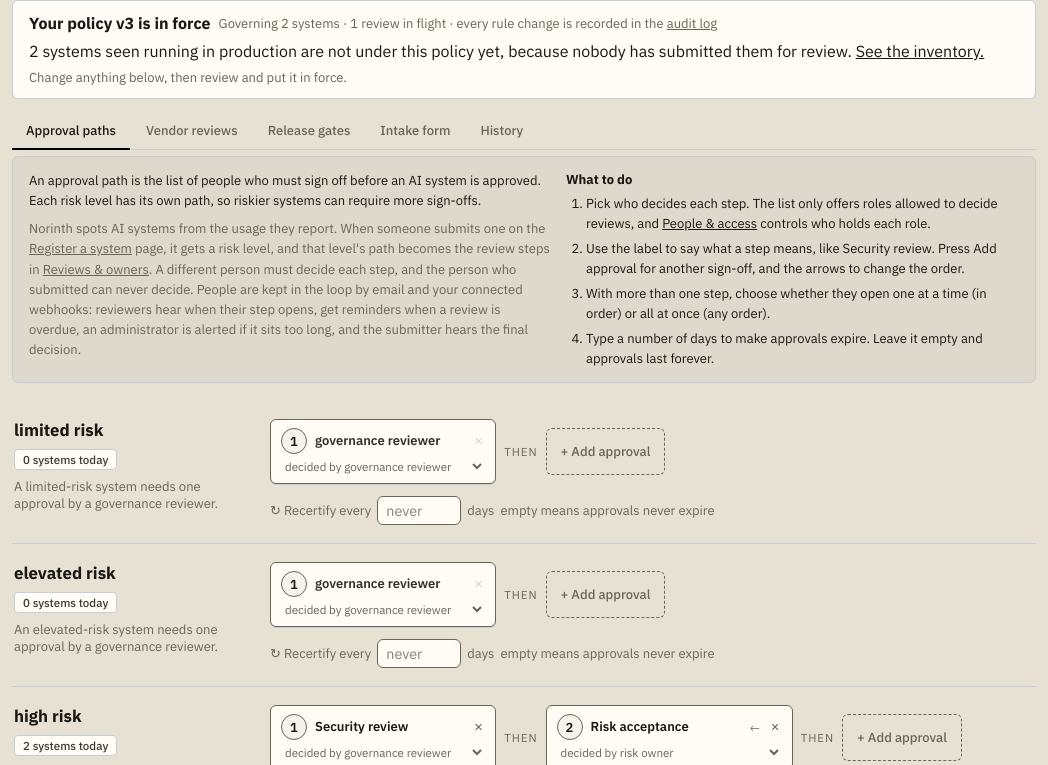
Test: PolicyView › splits the builder into one concern per view, each with plain guidance
Check: the element with test id "tab-guide" shows "An approval path is the list of people who must sign off before an AI system is approved", box [29,172,541,209]
Check: the button "Add question" is not shown
What coordinates should you click on to do the following:
click the link "Intake form"
I would click on:
 (415, 130)
Its box is [380,122,450,139].
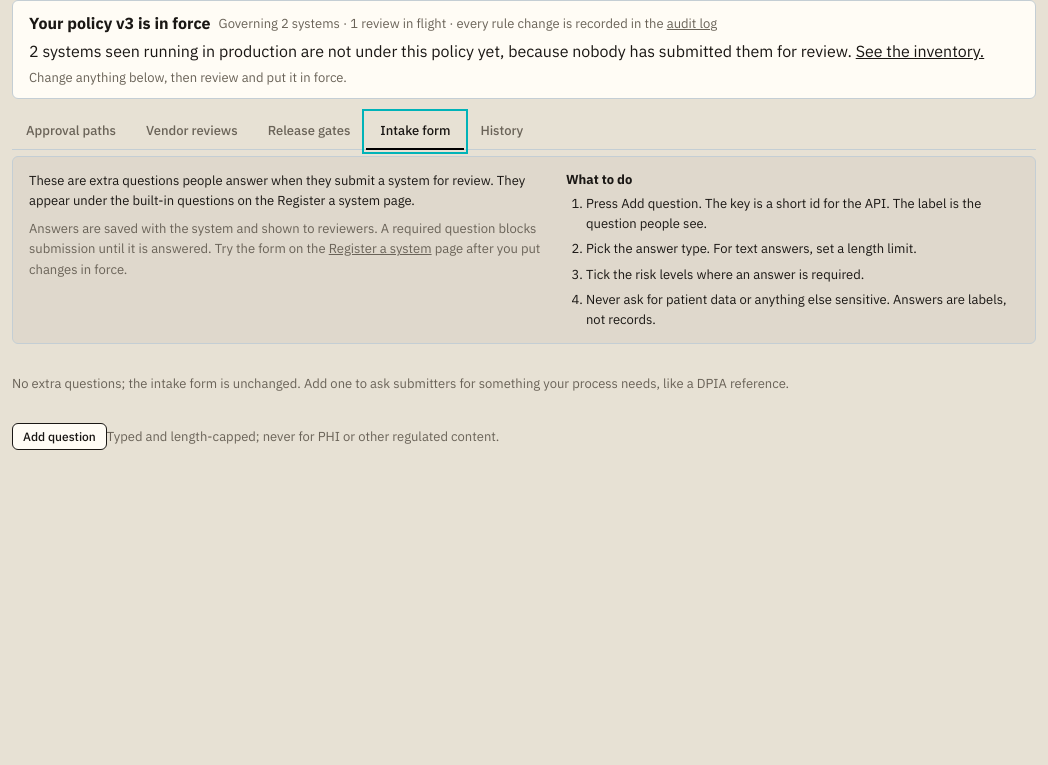
Check: the button "Add question" is shown, box [12,423,107,450]
Check: the element with test id "tab-guide" shows "extra questions people answer when they submit a system", box [29,172,525,209]
Check: the element with test id "tab-guide" shows "Never ask for patient data", box [586,291,1006,328]
What coordinates should you click on to do the following:
click the link "Release gates"
I would click on:
 (309, 130)
Its box is [268,122,350,139].
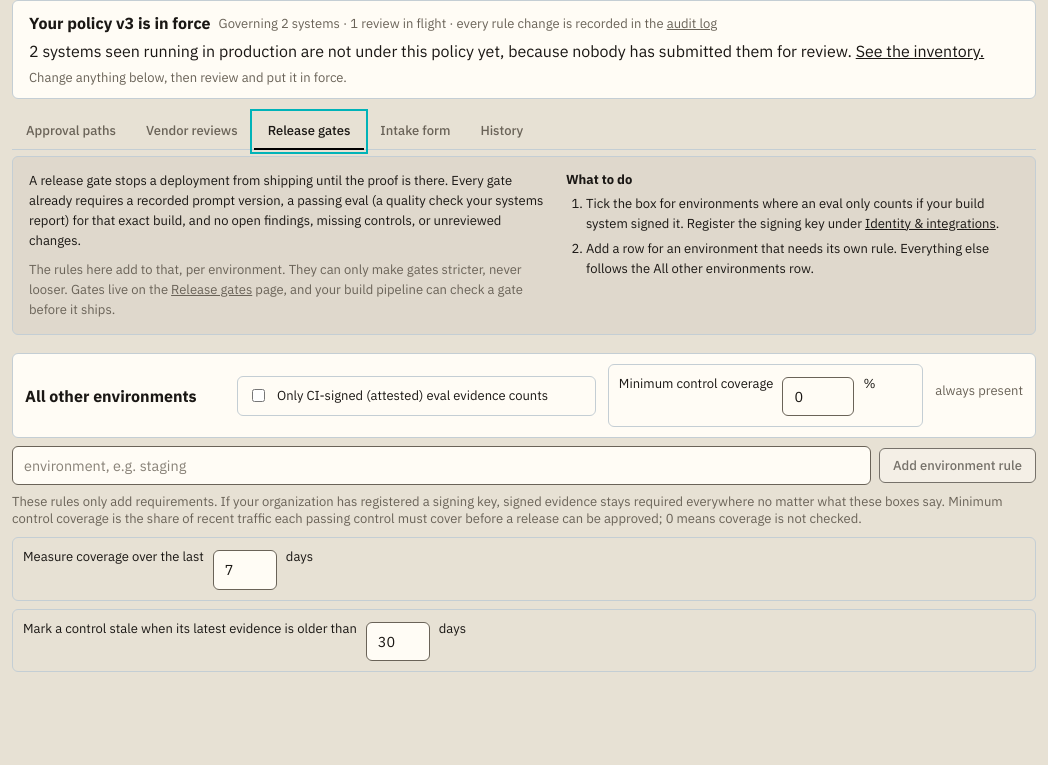
Check: the element with test id "gate-rule-*" is shown, box [12,353,1036,438]
Check: the element with test id "tab-guide" shows "stops a deployment from shipping until the proof is there", box [29,172,543,249]
// history holds the versions and the raw document for auditors
What coordinates should you click on to do the following:
click the link "History"
I would click on:
 (502, 130)
Its box is [480,122,523,139].
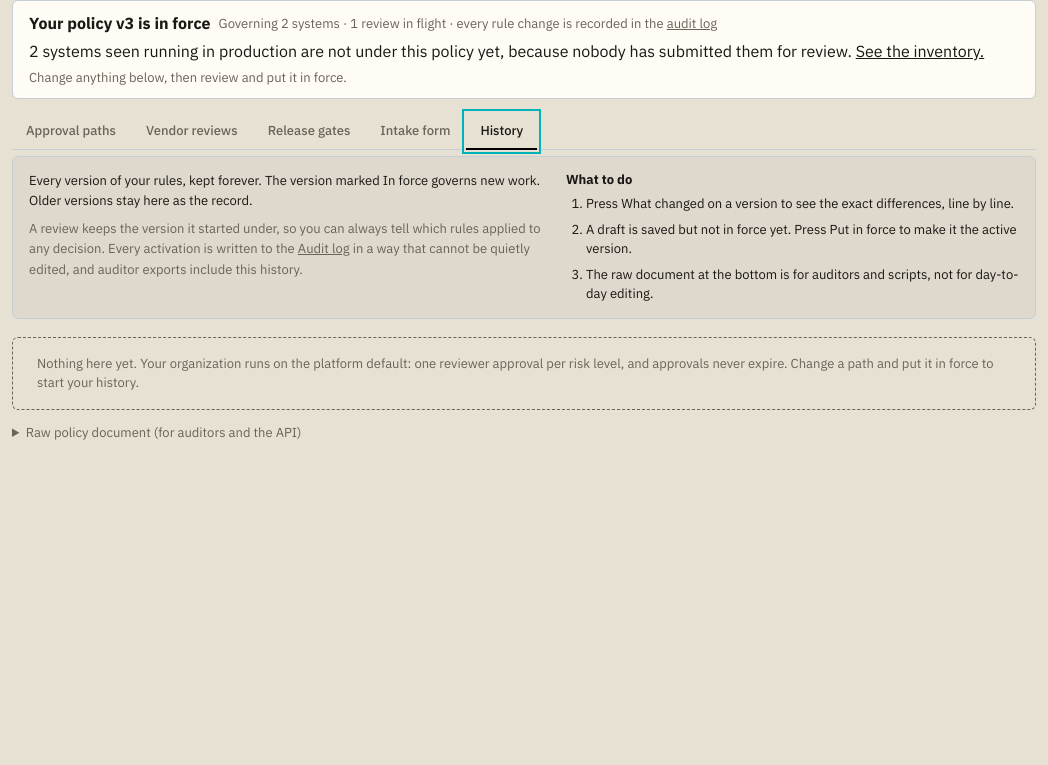
Check: the element with test id "policy-toolbar" shows "Your policy v3 is in force", box [29,13,211,33]
Check: the heading "Raw policy document (for auditors and the API)" is shown, box [26,424,302,440]
Check: the element with test id "tab-guide" shows "A review keeps the version it started under", box [29,220,541,257]
